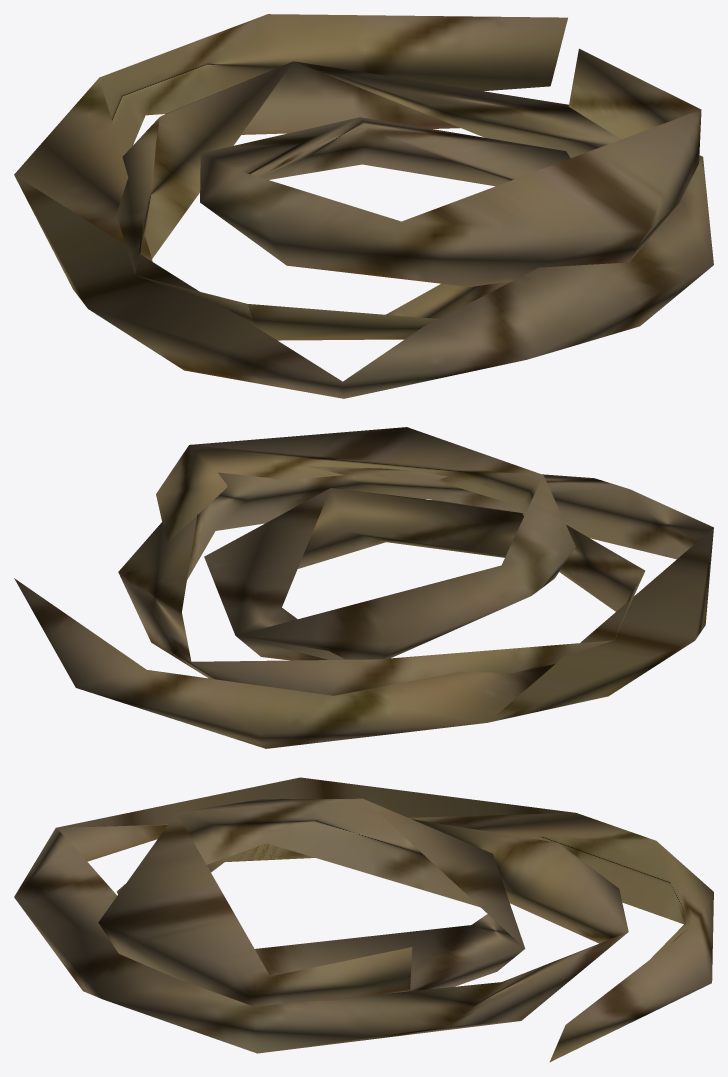
Rendered from Rope_1.low.gltf.
3 renders of one model, top to bottom at view 1: azimuth 30°, elevation 25°; view 2: azimuth 150°, elevation 25°; view 3: azimuth 270°, elevation 25°, orthographic. The views are drawn at different scales.
Parts seen in each view (by area): view 1: Rope_1; view 2: Rope_1; view 3: Rope_1.
Boxes of the visible parts, x1,y1,x2,y2 form: Rope_1: [14, 14, 713, 398]; Rope_1: [14, 427, 713, 748]; Rope_1: [14, 777, 713, 1062].
Size of the model in its own units: 0.546 by 0.0922 by 0.5938.
Materials: 1 (1 with a texture image).
